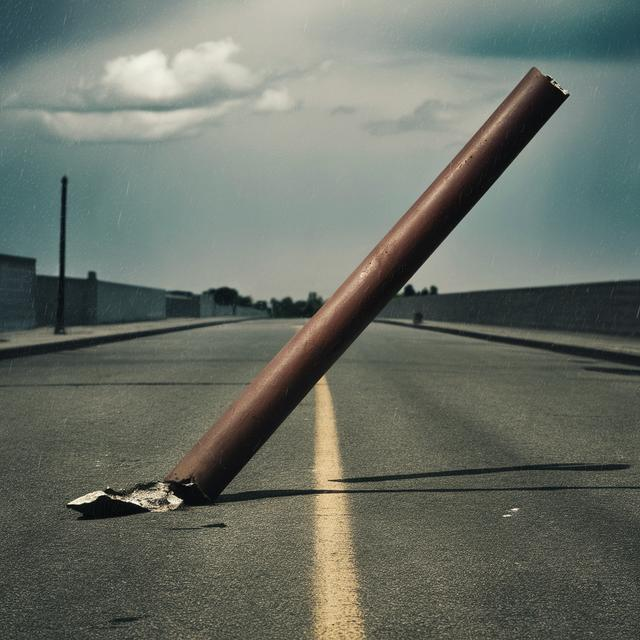Inclined Pole: (65, 62, 567, 525)
